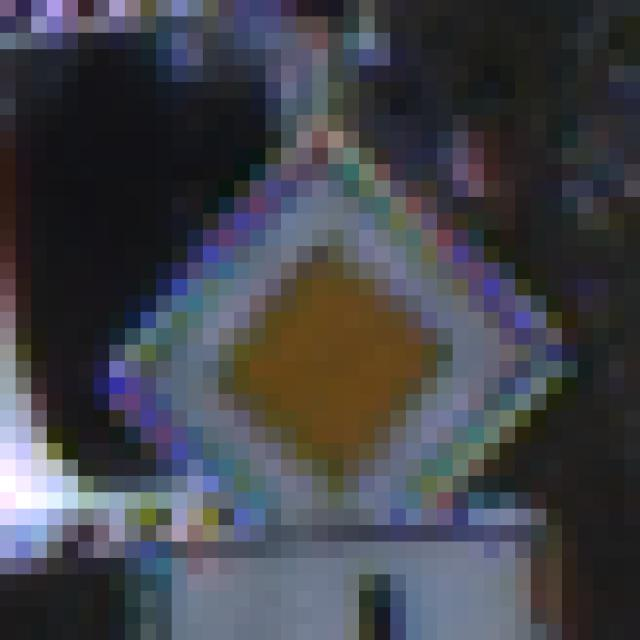Main Road: (95, 99, 563, 559)
